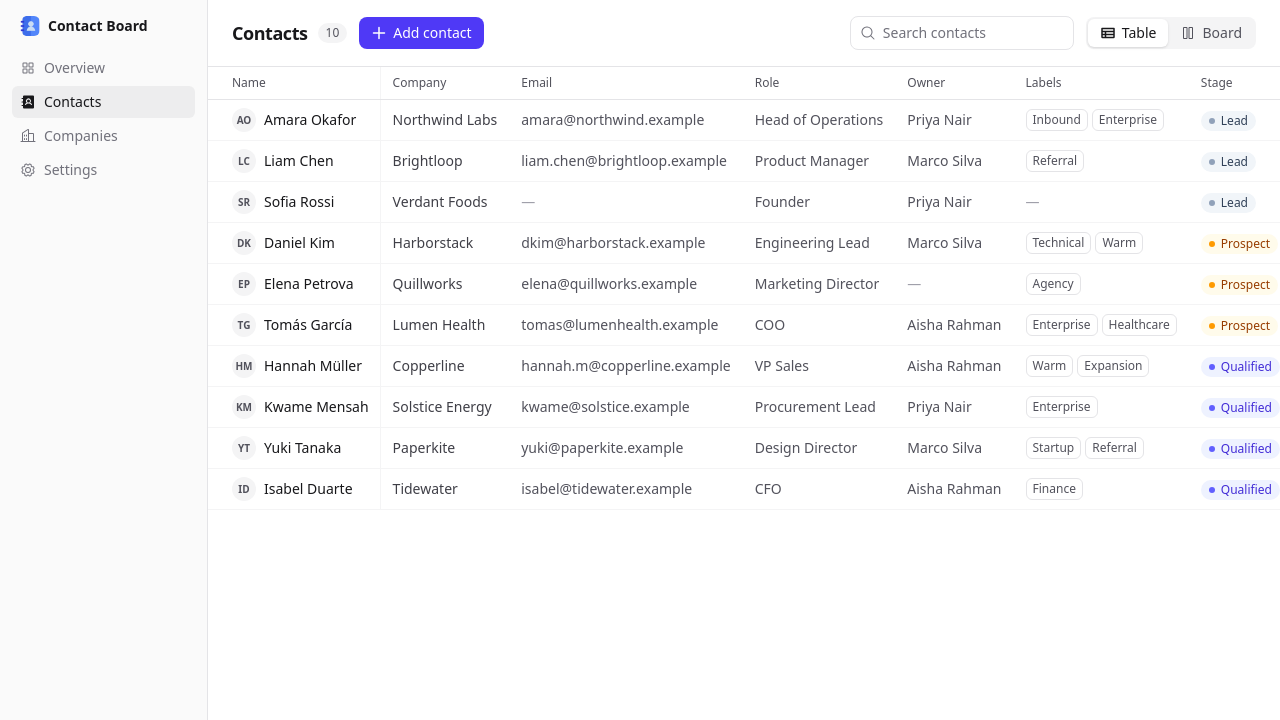
it: semantics and names › every control in the details panel has an accessible name and every field a label
The image size is (1280, 720).
Click the button "DK Daniel Kim". click: (283, 243)
box: x1=232 y1=231 x2=335 y2=255
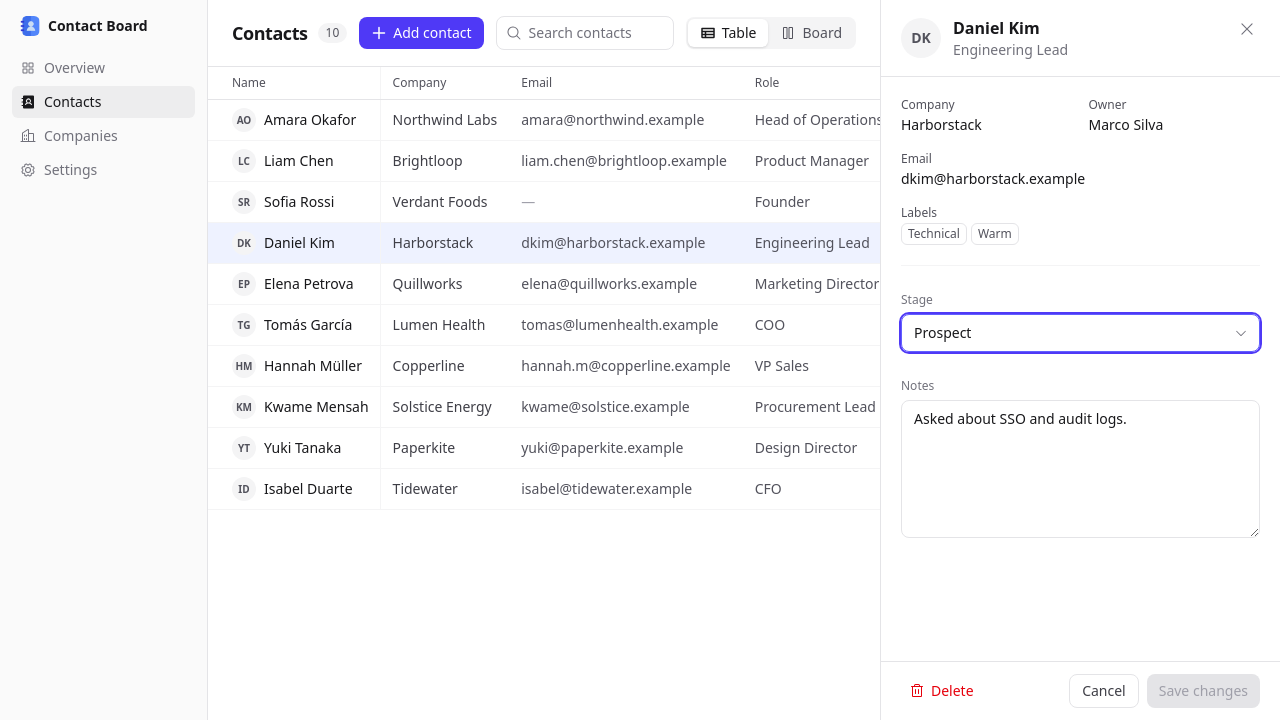
Check: the dropdown labelled "Stage" is shown, box x1=901 y1=314 x2=1260 y2=352
Check: the text box labelled "Notes" is shown, box x1=901 y1=400 x2=1260 y2=538
Check: the button named "Close details" is shown, box x1=1234 y1=16 x2=1260 y2=42
